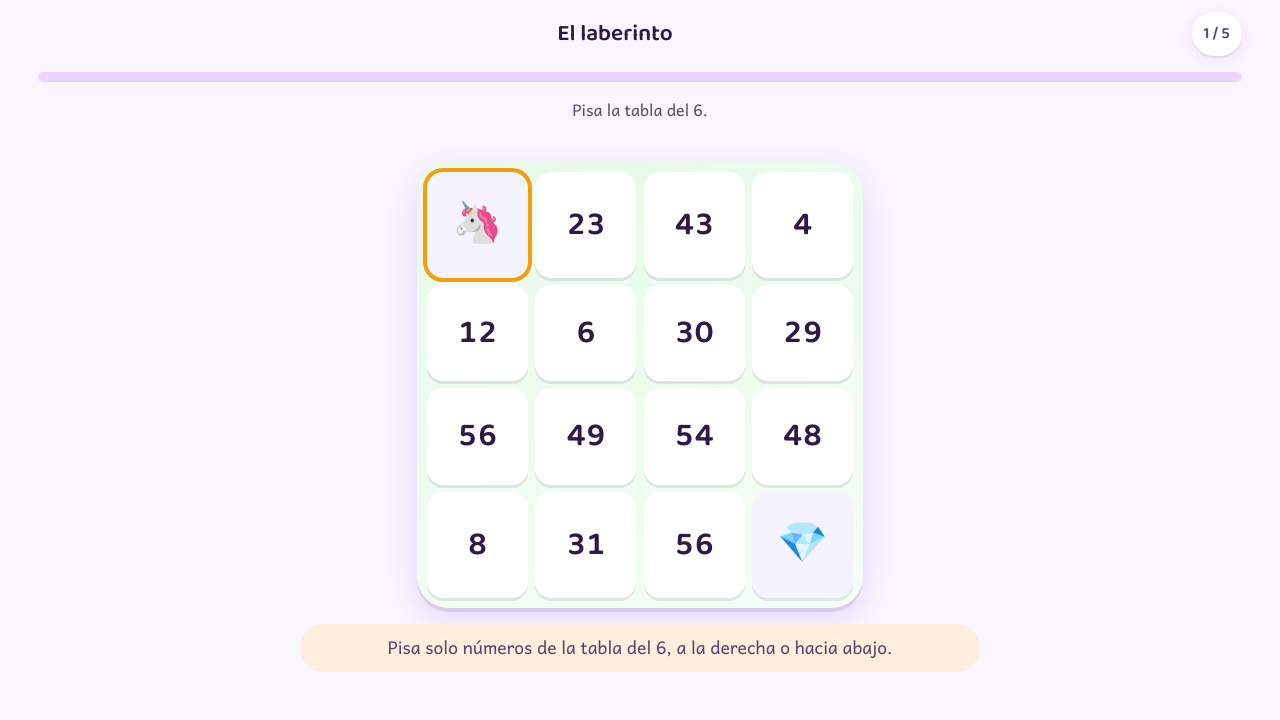
Test case: maze › a tap that is not a multiple of the table gives a gentle clue and logs a wrong attempt
Click the button "23": (586, 225) [535,172,636,278]
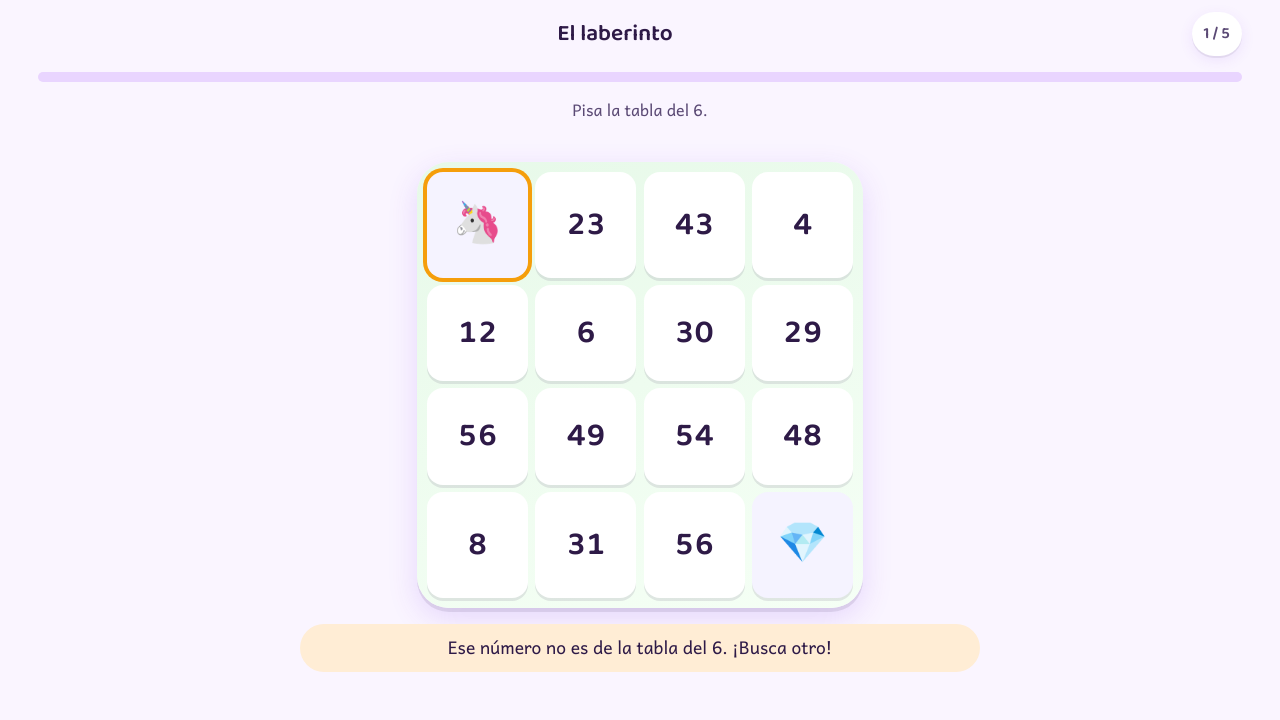
Now the message shows "no es de la tabla del 6", box [448,633,832,661]
